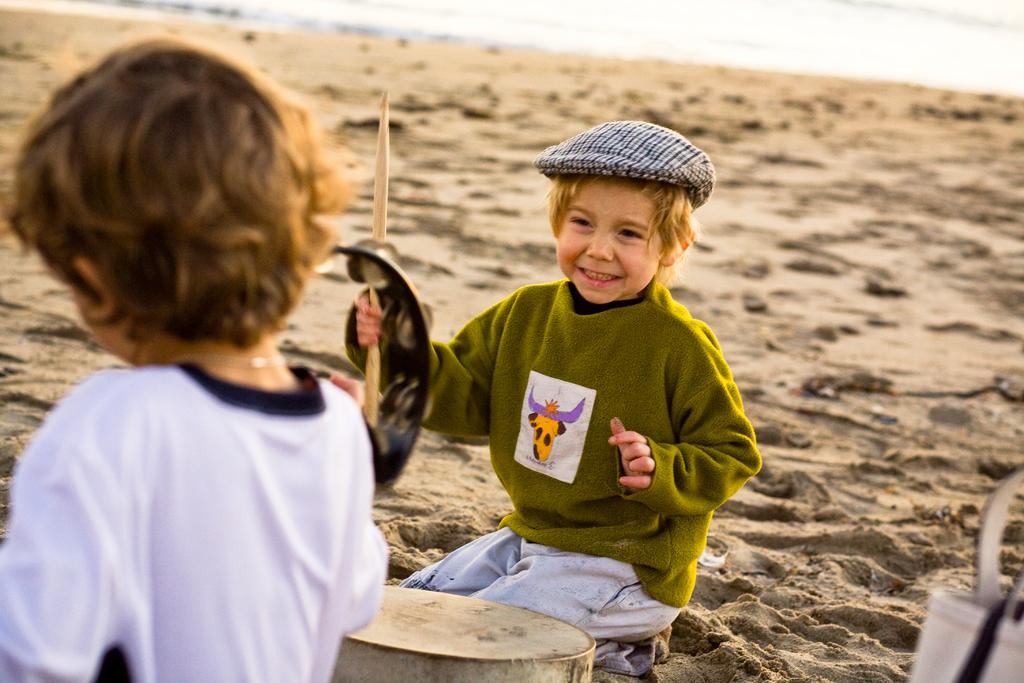Hat: (528, 120, 714, 212)
